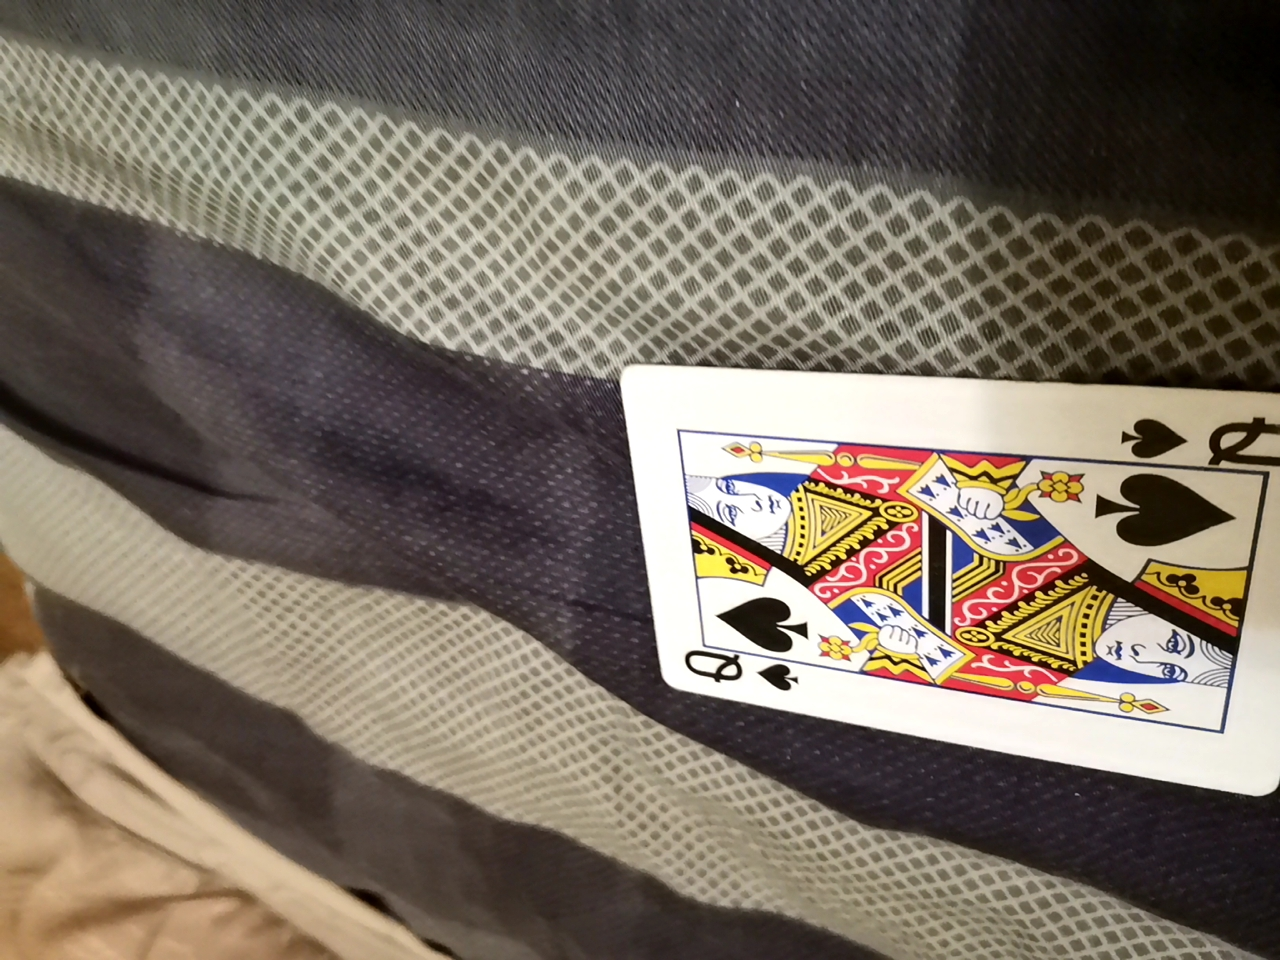ht q: (602, 354, 1263, 803)
